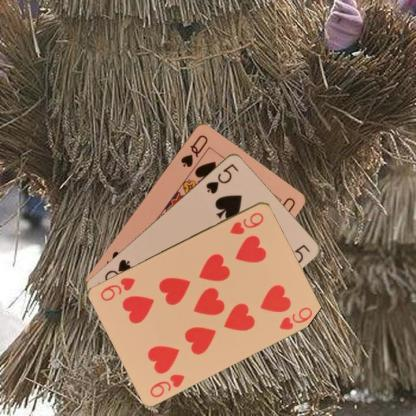5s: (203, 160, 240, 194)
9h: (147, 371, 186, 399), (227, 209, 265, 236)
Qs: (178, 132, 209, 168)
